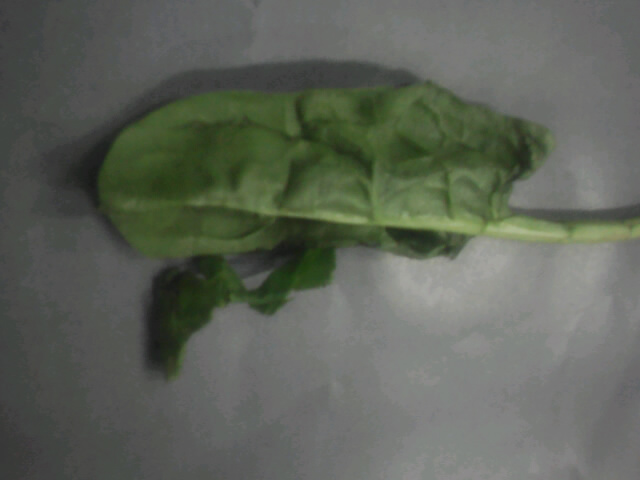yellow: (49, 42, 562, 361)
